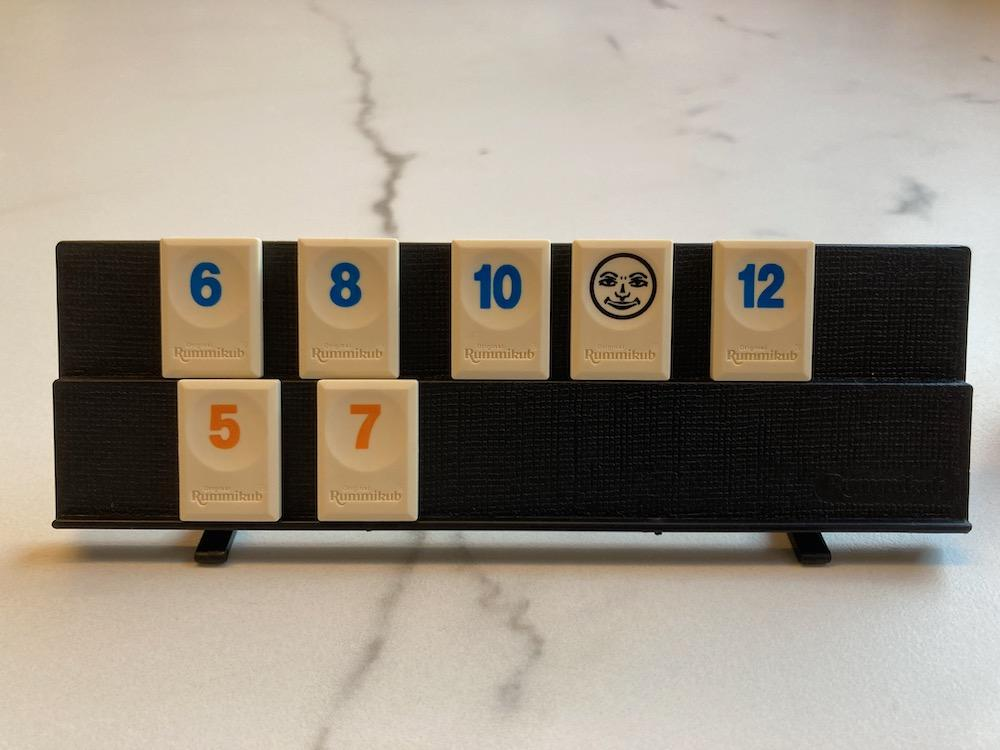blue_10: (451, 240, 551, 379)
blue_12: (711, 240, 814, 381)
blue_6: (162, 238, 262, 379)
blue_8: (299, 241, 398, 379)
joker: (570, 241, 672, 381)
orange_5: (179, 379, 281, 521)
orange_7: (318, 382, 418, 521)
